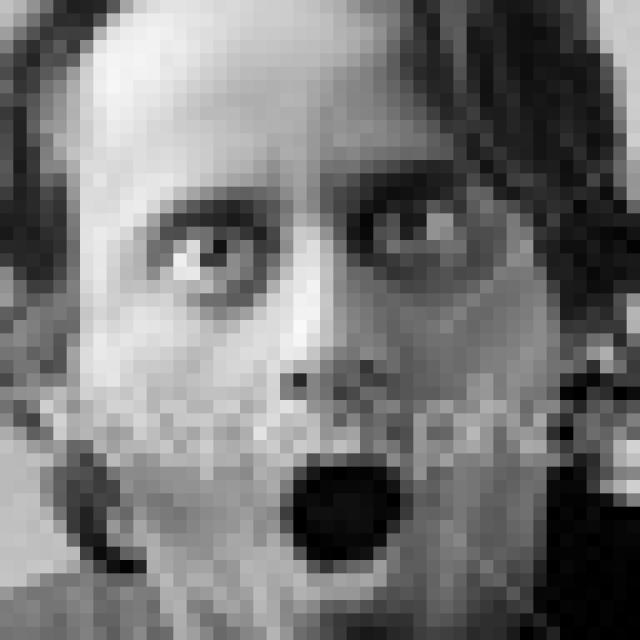surprise: (120, 173, 522, 640)
